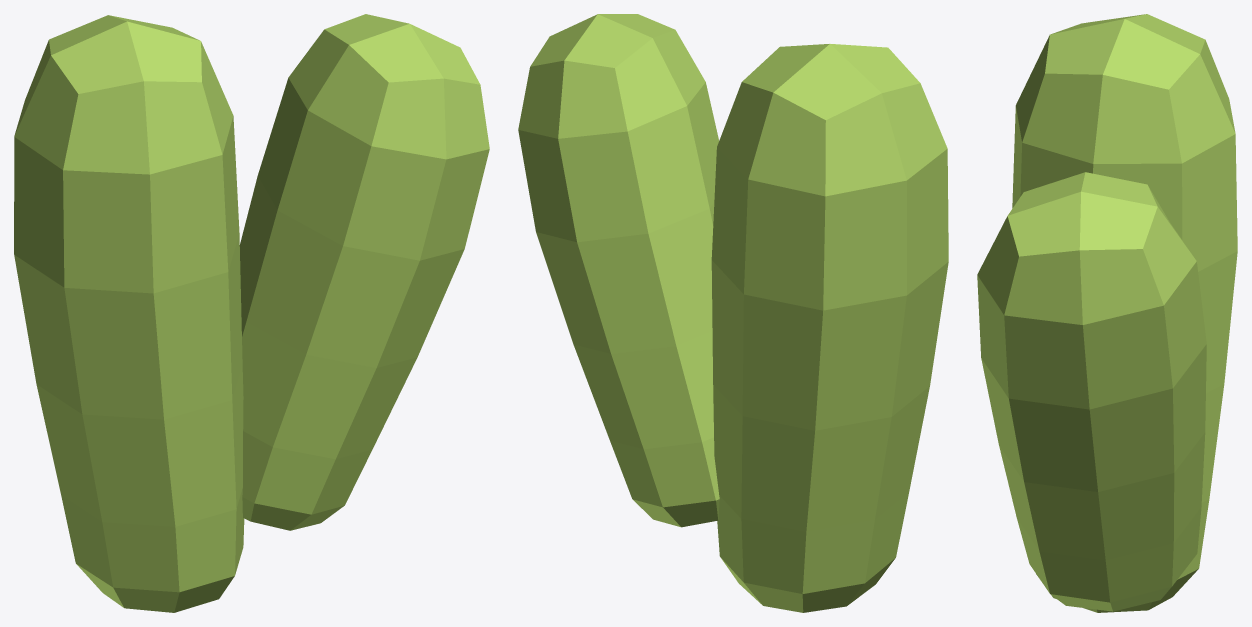
Rendered from grass_stem_small.fbx.
3 views of the same model, side by side, from view 1: azimuth 30°, elevation 25°; view 2: azimuth 150°, elevation 25°; view 3: azimuth 270°, elevation 25° (orthographic). The views are drawn at different scales.
Parts seen in each view (by area): view 1: Cube.034, Cube.033; view 2: Cube.034, Cube.033; view 3: Cube.033, Cube.034.
Part boxes in pixels (<box>): Cube.034: <box>14,15,244,612</box>; Cube.033: <box>239,14,489,530</box>; Cube.034: <box>711,44,948,612</box>; Cube.033: <box>518,14,719,527</box>; Cube.033: <box>977,172,1206,611</box>; Cube.034: <box>1012,14,1237,612</box>.
Bounding box in the file's own units: 0.2043 × 0.1126 × 0.2702.
